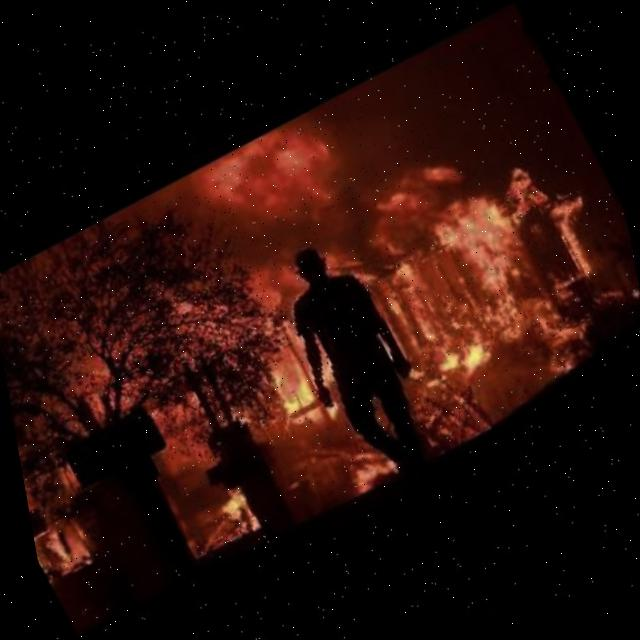fire: (378, 162, 608, 388), (251, 346, 327, 432)
